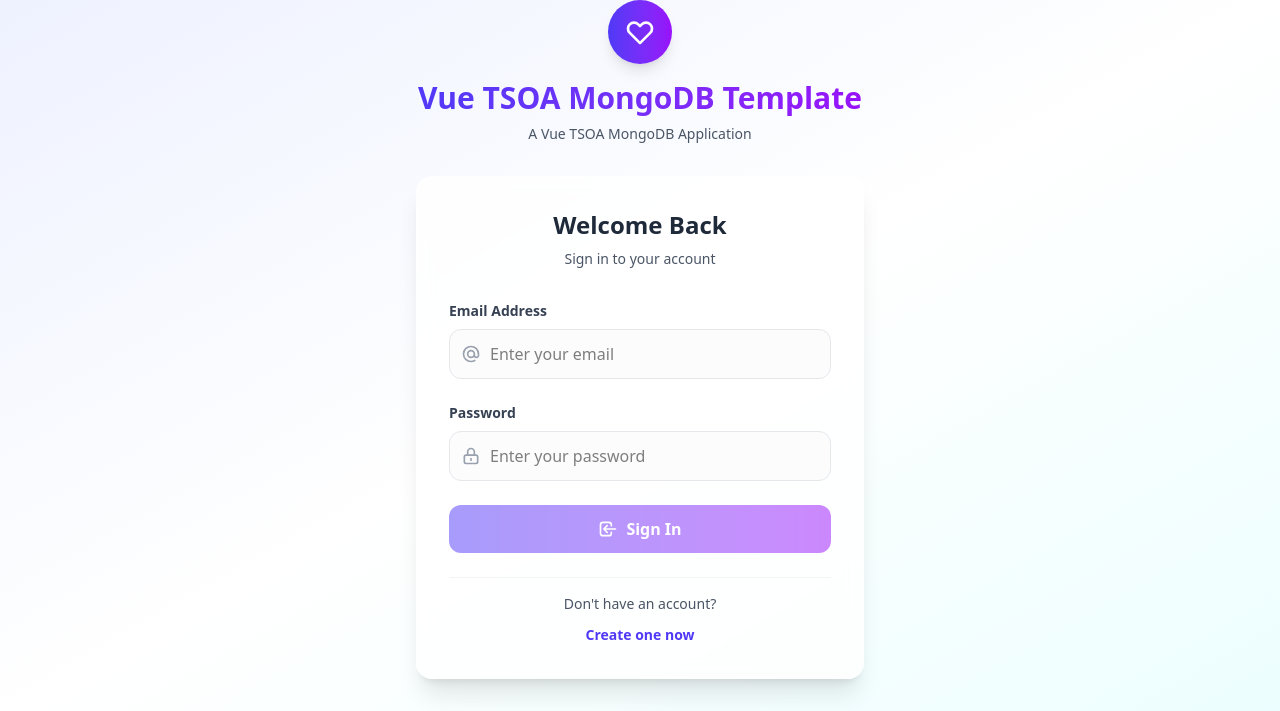
it: AdminLogin.vue › enables submit button when form is valid for login
Type "test@example.com" into the field with id "email". click: coordinates (640, 354)
box: [449,329,831,379]
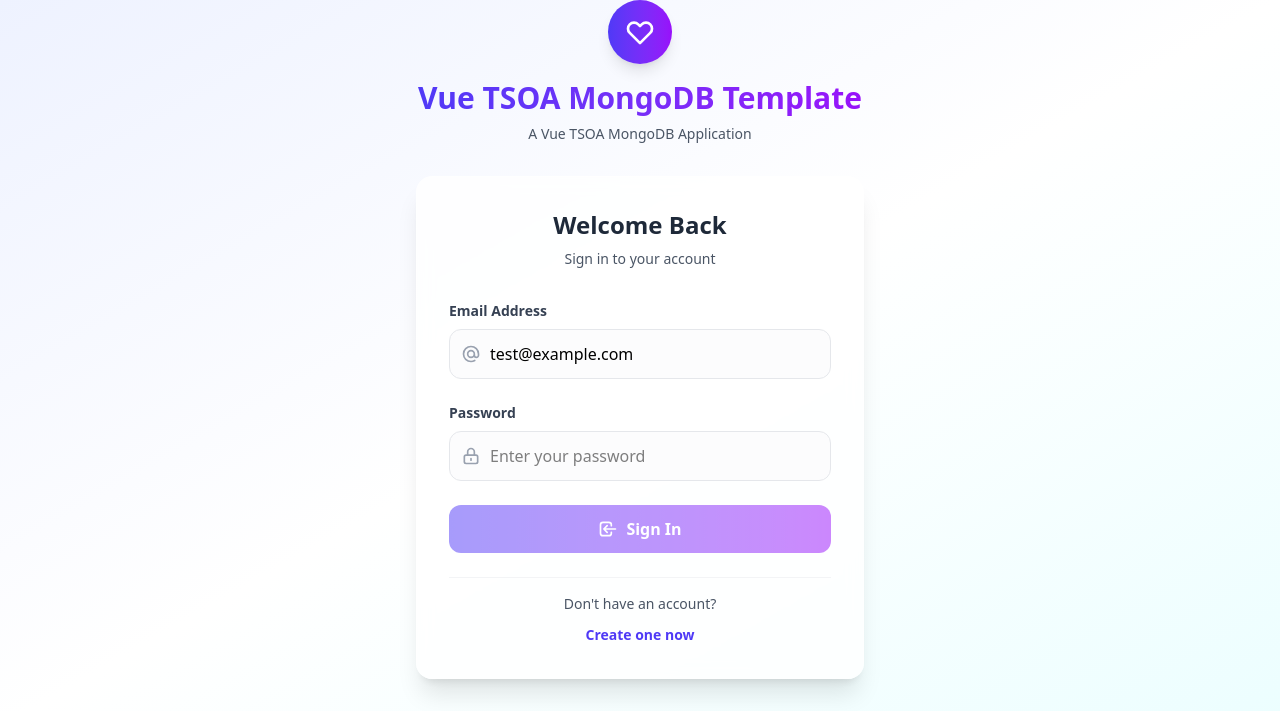
Type "password" into the password field labelled "Password". click: coordinates (640, 456)
box: [449,431,831,481]
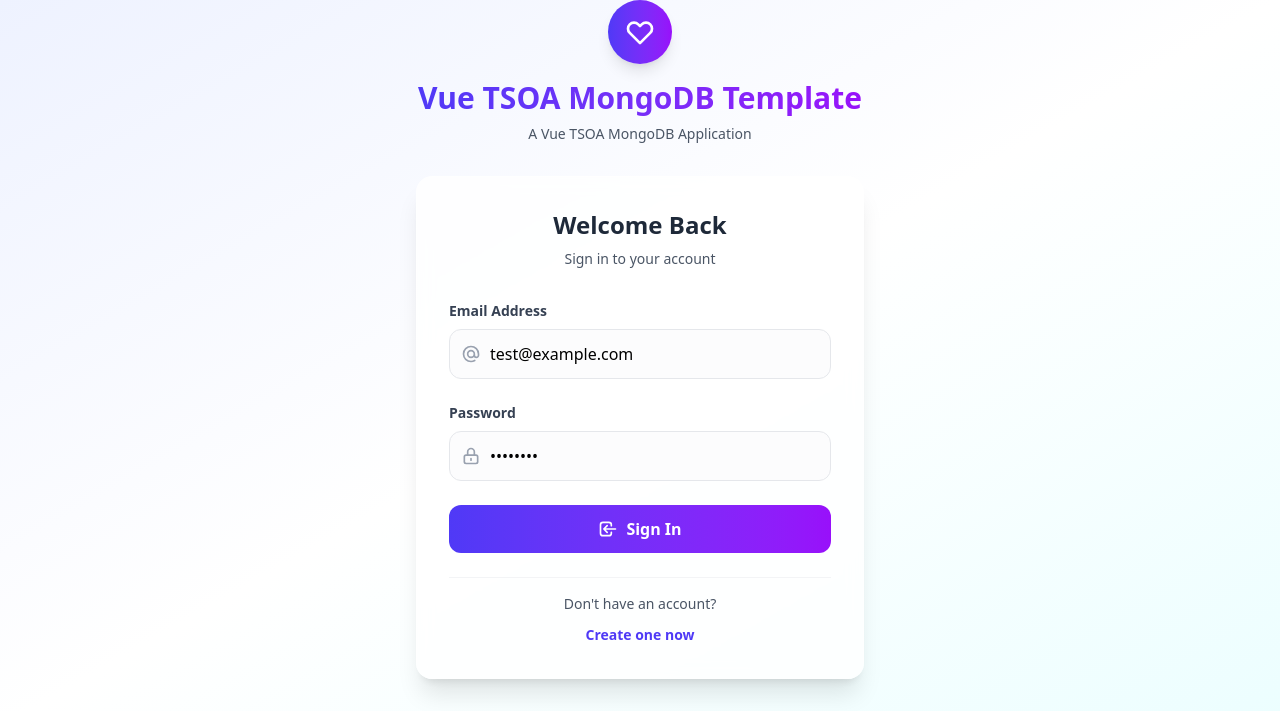
Now the submit button is enabled, box [449,505,831,553]
